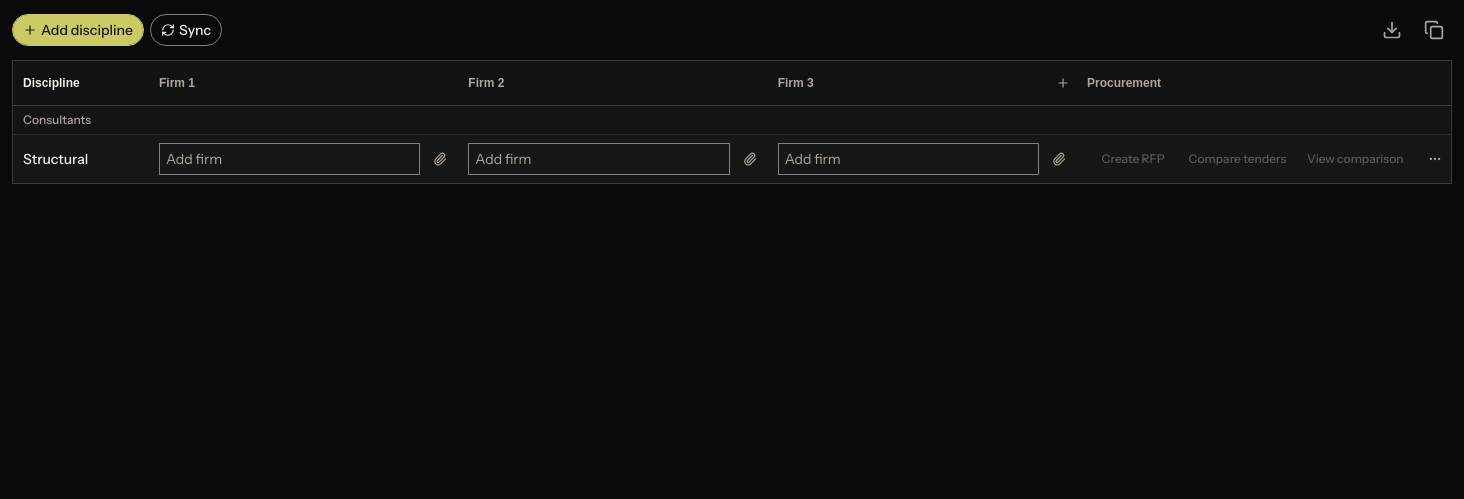
Test: ProcurementStrategyGrid › uses clear labels in the row action menu
What coordinates should you click on to do the following:
click the button named "Actions for Structural"
I would click on:
 (1435, 159)
Its box is x1=1423 y1=147 x2=1447 y2=171.
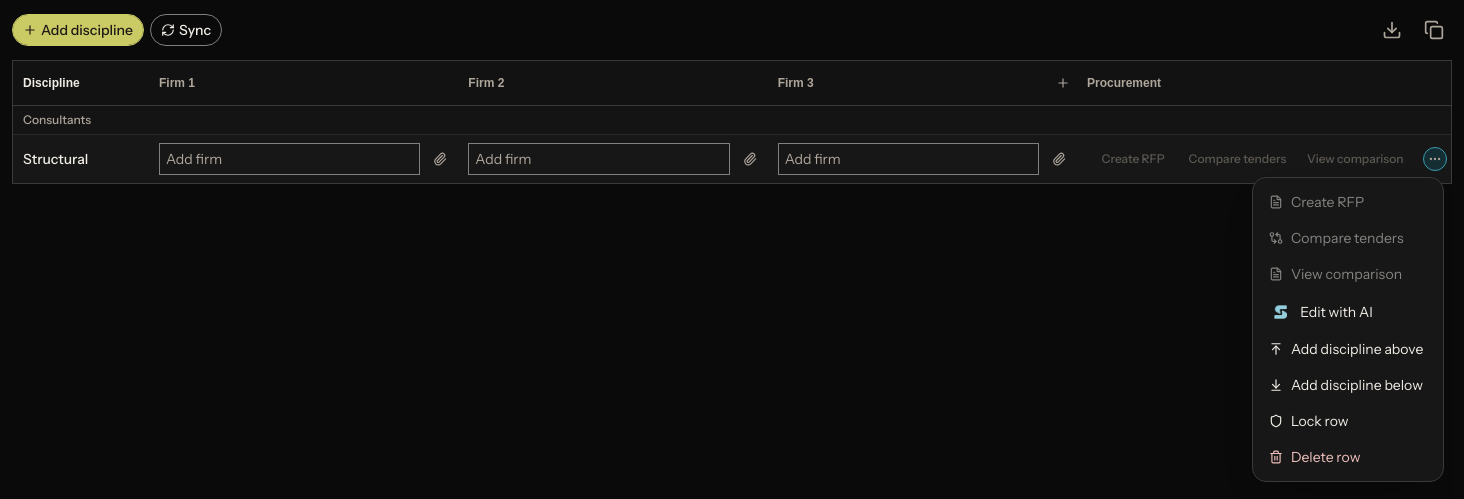
Now the menu item with aria-label "Edit Structural with AI" reads "Edit with AI", box x1=1274 y1=303 x2=1373 y2=321
Now the menu item with aria-label "Add row above" reads "Add discipline above", box x1=1269 y1=340 x2=1423 y2=358
Now the menu item with aria-label "Add row below" reads "Add discipline below", box x1=1269 y1=376 x2=1423 y2=394
